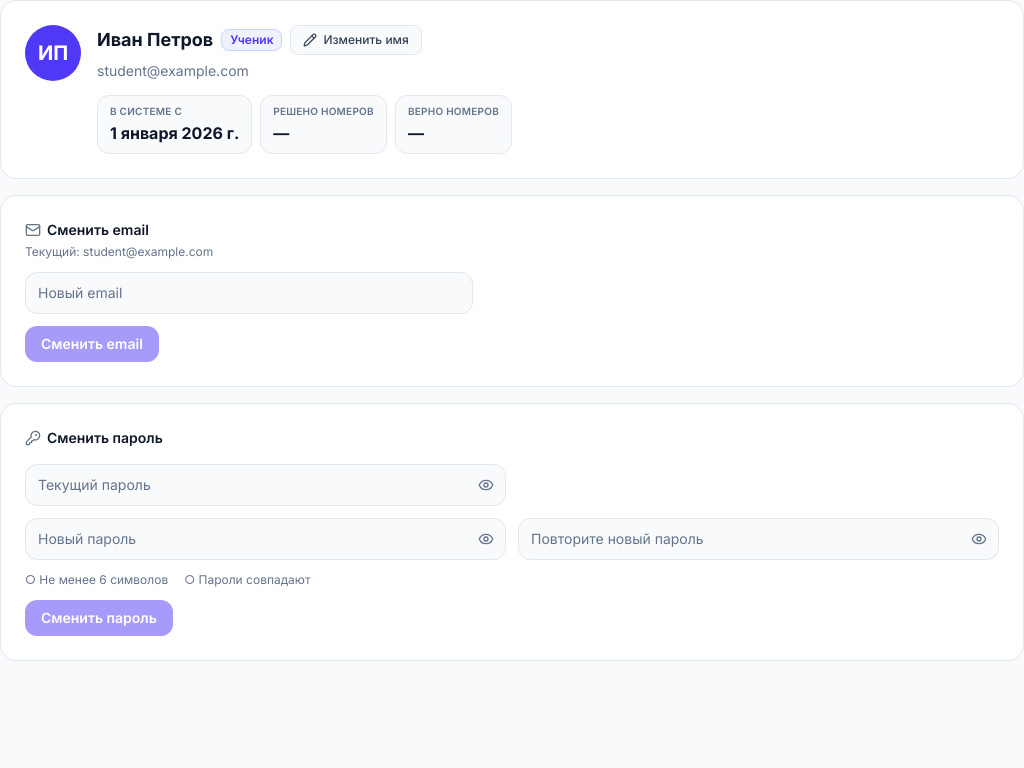
Test: Student ProfilePage — смена пароля с подтверждением текущим паролем › если новый пароль равен текущему, показывает ошибку и не вызывает signInWithPassword и updateUser
The width and height of the screenshot is (1024, 768).
Expected: the text "Решено номеров" is shown, [273,104,374,119]
Type "samepass123" into the password field with placeholder "Текущий пароль". click: (266, 485)
box: [25,464,506,506]
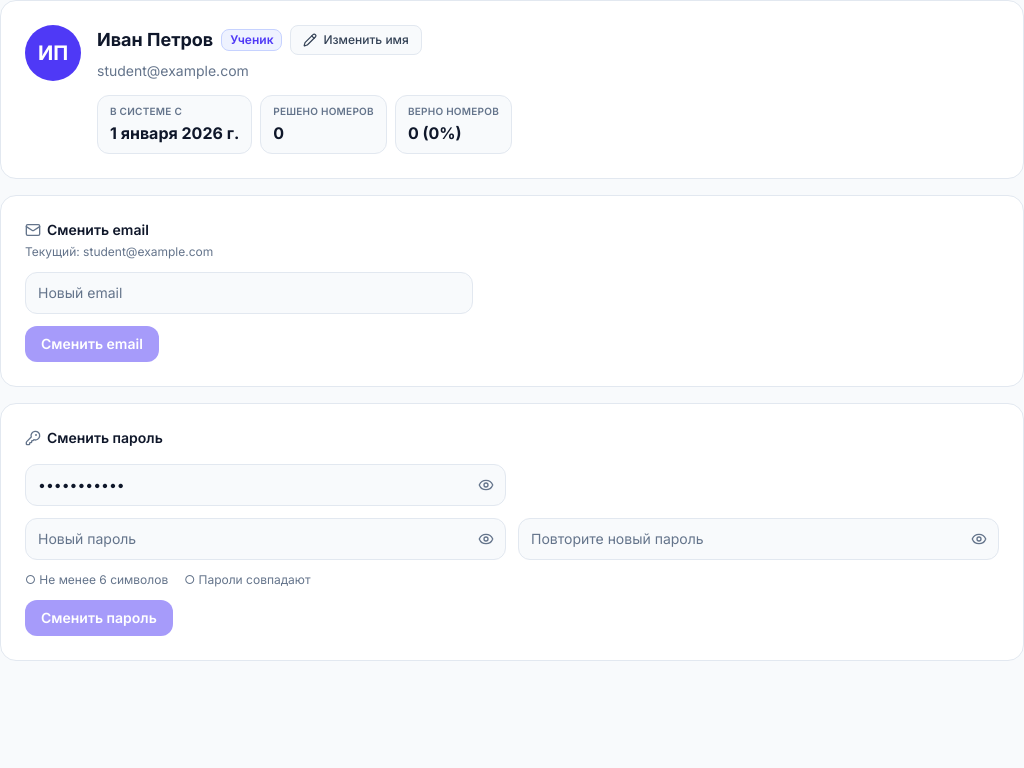
Type "samepass123" into the password field with placeholder "Новый пароль". click: (266, 539)
box: [25,518,506,560]
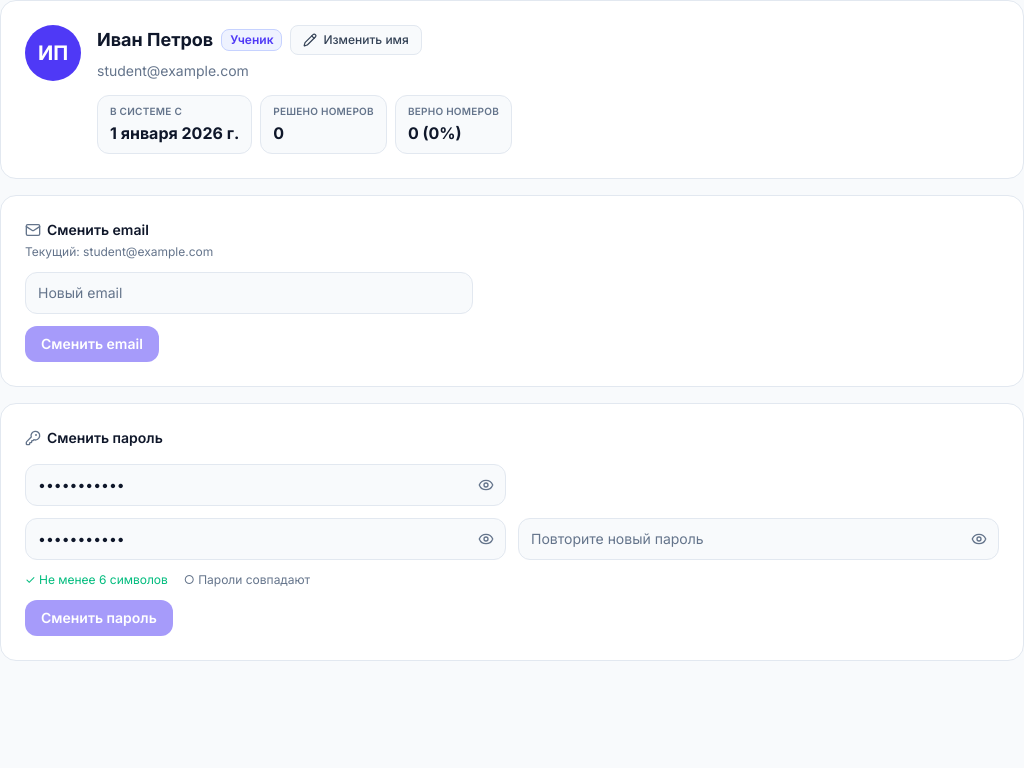
Type "samepass123" into the password field with placeholder "Повторите новый пароль". click: (758, 539)
box: [518,518,999,560]
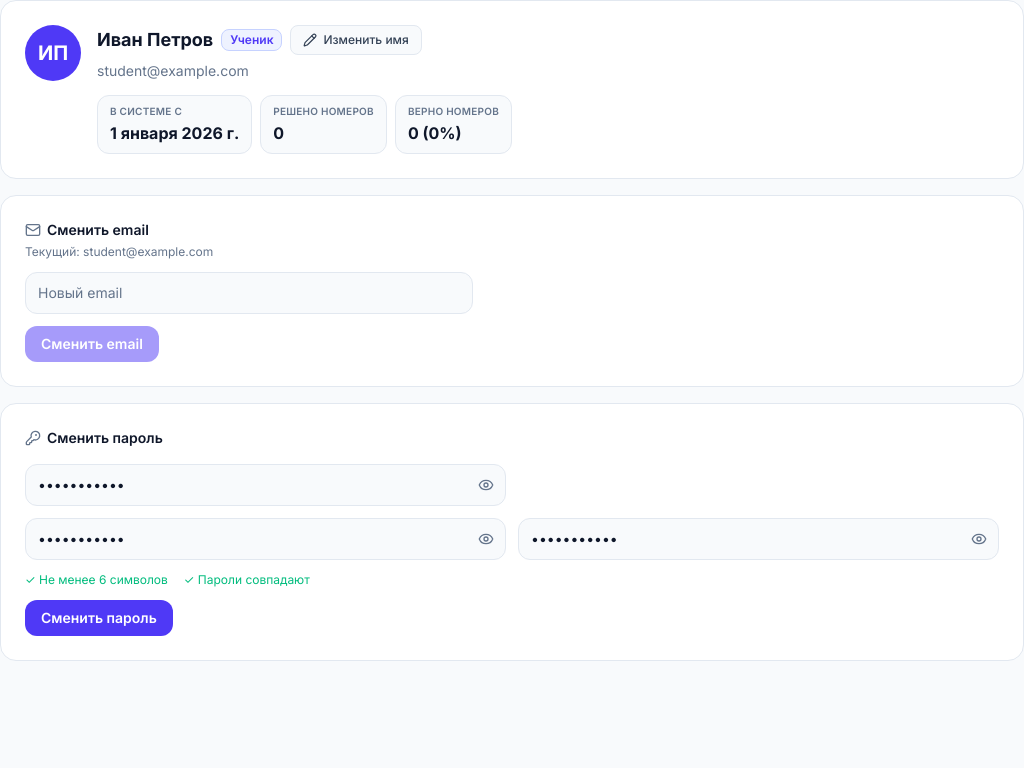
Click the button "Сменить пароль". click: (99, 618)
box: [25,600,173,636]
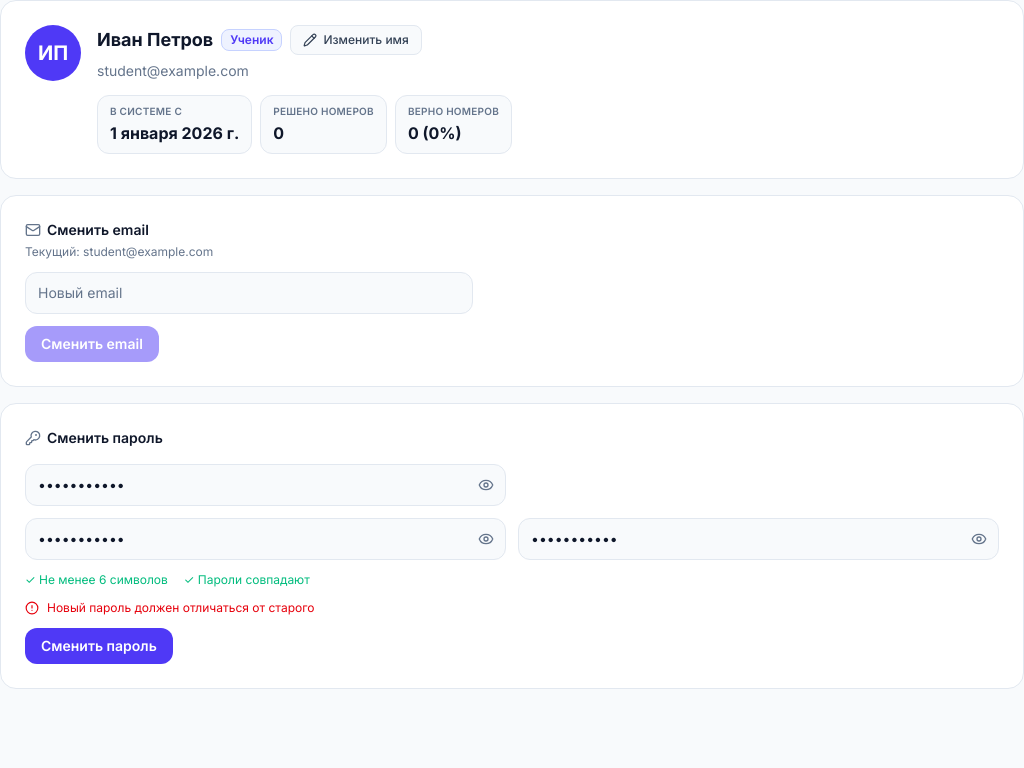
Expected: the text "Новый пароль должен отличаться от старого" is shown, [47,600,314,616]
